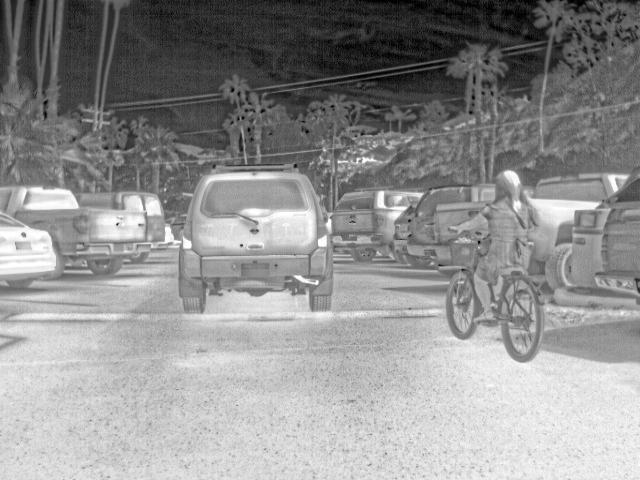car: (178, 161, 337, 316), (4, 184, 146, 278), (529, 170, 635, 290), (407, 183, 496, 268), (331, 188, 424, 266), (76, 191, 163, 268), (430, 199, 494, 272), (1, 213, 58, 290), (593, 208, 640, 294), (393, 200, 417, 262)
person: (449, 168, 543, 322)
